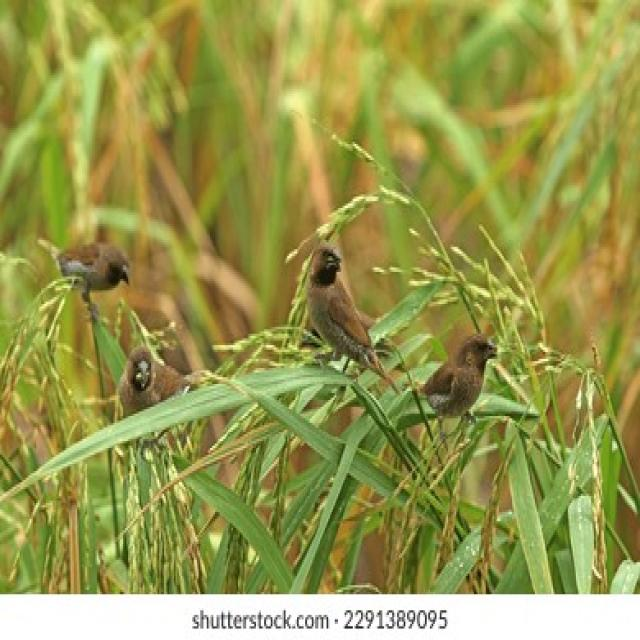bird: (47, 238, 167, 334), (385, 334, 502, 424), (308, 243, 378, 373), (112, 341, 204, 426)
